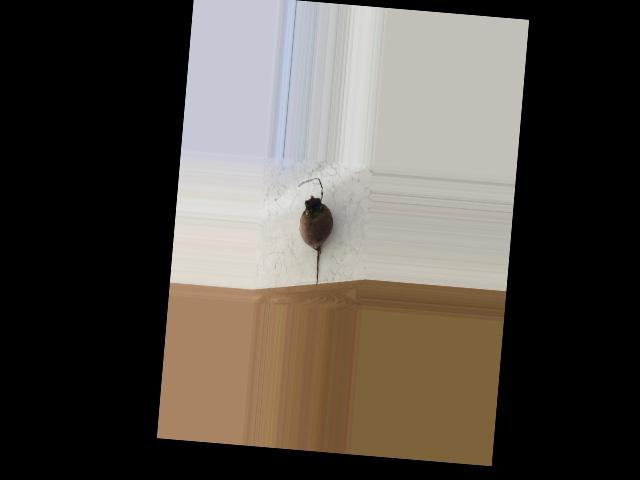beet: (290, 177, 336, 287)
